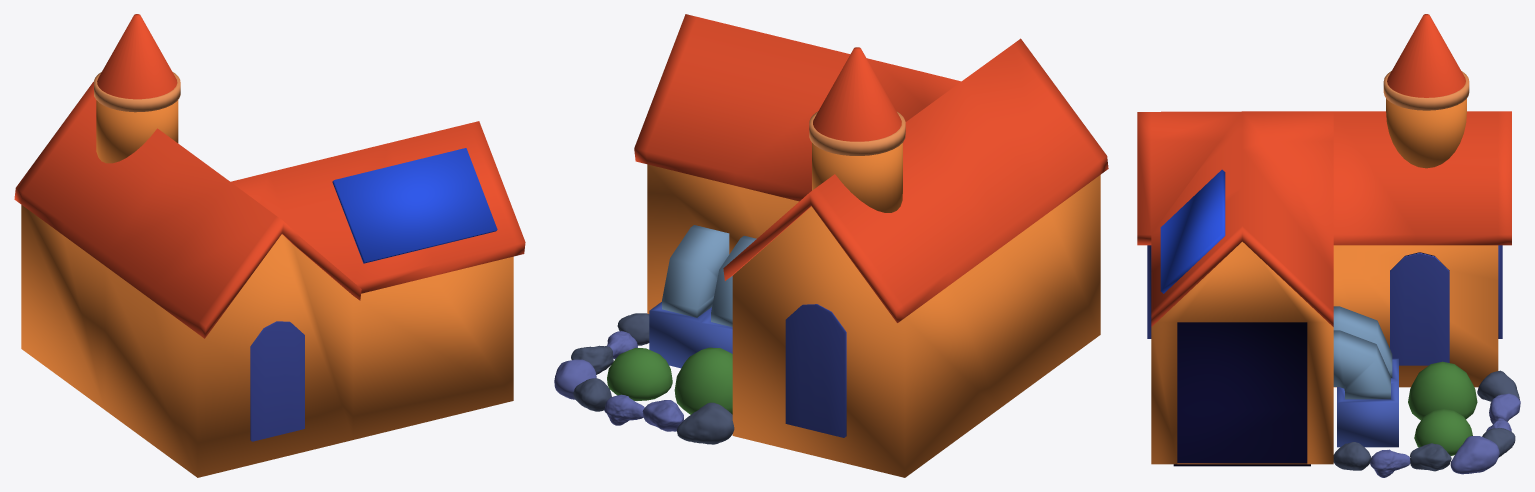
The model's file is casaberta.fbx.
The picture shows the model from 3 angles, left to right: view 1: azimuth 30°, elevation 25°; view 2: azimuth 150°, elevation 25°; view 3: azimuth 270°, elevation 25°; orthographic projection. The views are drawn at different scales.
Visible parts, largest first — view 1: Cube, Cube.007, Cube.006, Cube.003, Cube.008; view 2: Cube.007, Cube, Cube.002, Cube.005, Cube.004, Roundcube.005, Roundcube, rock.004, Cube.008, rock.003, rock.005, rock.007 (+3 smaller); view 3: Cube.007, Cube, Cube.010, Cube.001, Cube.005, Cube.006, Cube.004, Roundcube.005, Roundcube, rock.003, Cube.008, rock.002 (+7 smaller).
Part boxes in pixels (box(x1,y1,x2,y2)): Cube: box(21, 100, 513, 477); Cube.007: box(14, 14, 525, 338); Cube.006: box(332, 148, 497, 263); Cube.003: box(250, 321, 304, 441); Cube.008: box(94, 72, 180, 112); Cube.007: box(634, 14, 1108, 322); Cube: box(647, 143, 1100, 477); Cube.002: box(785, 304, 846, 437); Cube.005: box(662, 225, 756, 327); Cube.004: box(649, 302, 732, 368); Roundcube.005: box(674, 347, 732, 414); Roundcube: box(607, 348, 672, 400); rock.004: box(677, 402, 734, 444); Cube.008: box(809, 111, 905, 155); rock.003: box(554, 359, 596, 399); rock.005: box(642, 400, 683, 431); rock.007: box(573, 378, 611, 411); Cube.007: box(1137, 14, 1511, 326); Cube: box(1151, 98, 1498, 464); Cube.010: box(1173, 322, 1310, 466); Cube.001: box(1390, 252, 1449, 365); Cube.005: box(1333, 306, 1392, 399); Cube.006: box(1160, 169, 1225, 293); Cube.004: box(1337, 358, 1398, 447); Roundcube.005: box(1408, 361, 1477, 420); Roundcube: box(1414, 409, 1472, 455); rock.003: box(1450, 436, 1499, 474); Cube.008: box(1383, 71, 1469, 110); rock.002: box(1410, 443, 1451, 471).
Bounding box in the file's own units: 312 × 320 × 319.
